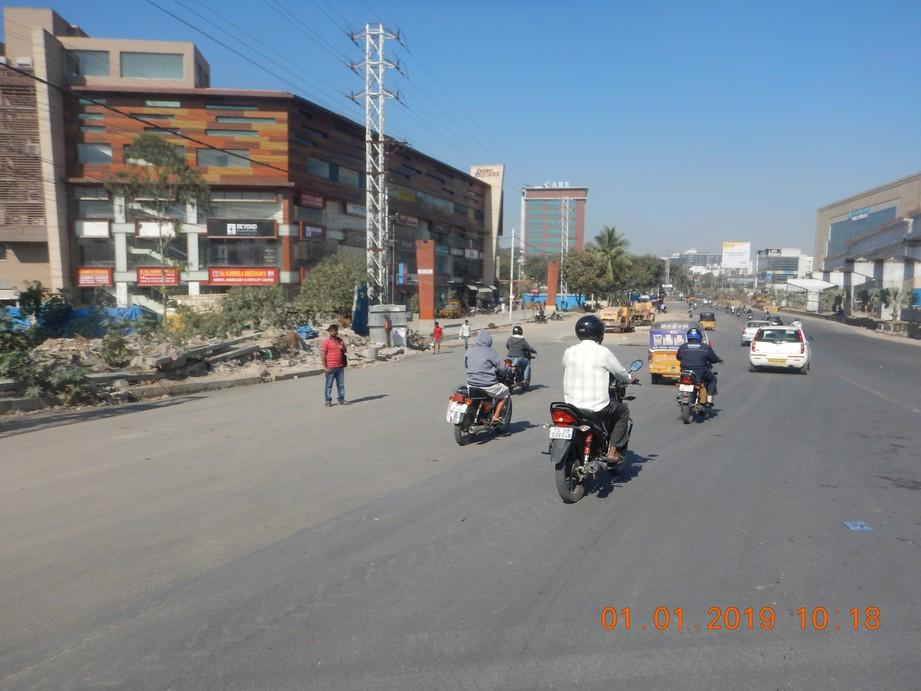plate: (549, 426, 573, 440)
